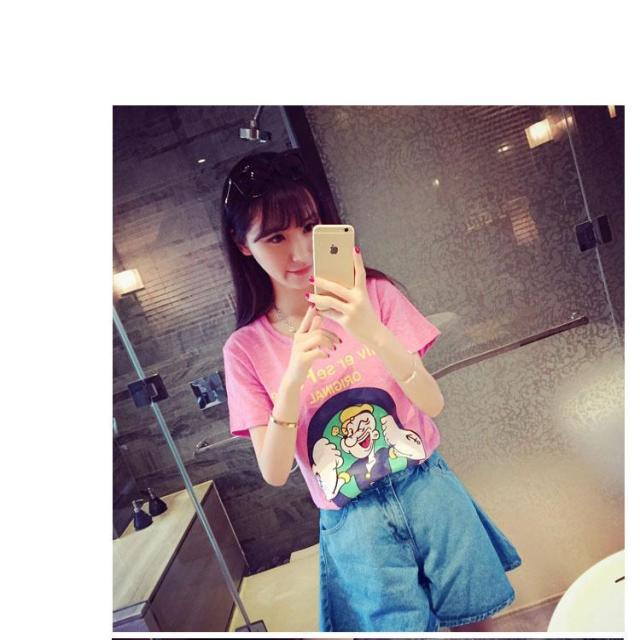short sleeve top: (225, 280, 439, 513)
shorts: (317, 447, 521, 632)
